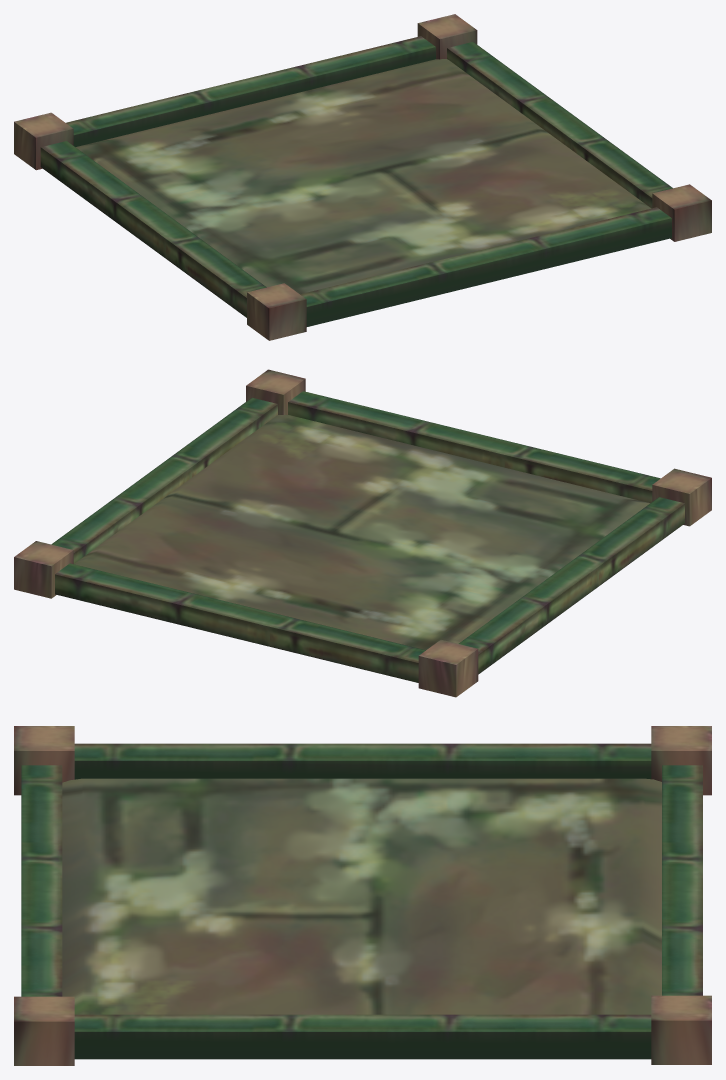
File: SM_LiftedTile.fbx
The picture shows the model from 3 angles, top to bottom: view 1: azimuth 30°, elevation 25°; view 2: azimuth 150°, elevation 25°; view 3: azimuth 270°, elevation 25°; orthographic projection. The views are drawn at different scales.
Parts seen in each view (by area): view 1: SM_LiftedTile; view 2: SM_LiftedTile; view 3: SM_LiftedTile.
Boxes of the visible parts, x1,y1,x2,y2 form: SM_LiftedTile: (14,14,711,340); SM_LiftedTile: (14,369,711,697); SM_LiftedTile: (14,726,711,1065).
Bounding box in the file's own units: 205 × 16.64 × 205.
Materials: 1 (1 with a texture image).
